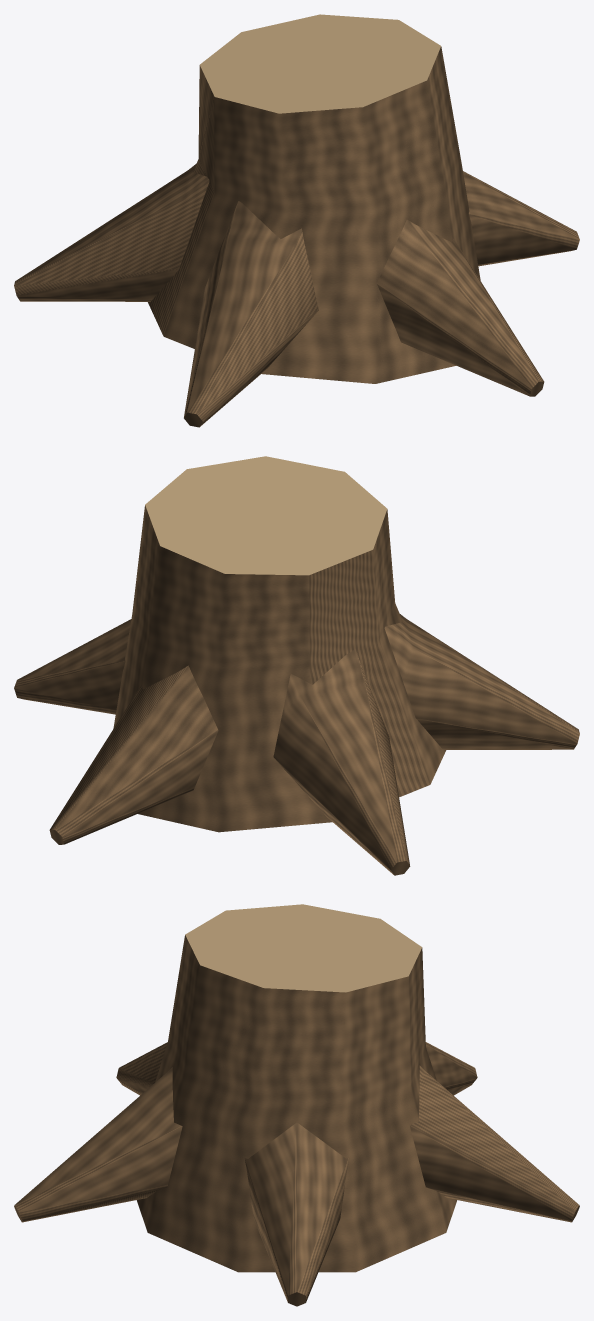
3 renders of one model, top to bottom at view 1: azimuth 30°, elevation 25°; view 2: azimuth 150°, elevation 25°; view 3: azimuth 270°, elevation 25°, orthographic. The views are drawn at different scales.
Visible parts, largest first — view 1: Harvest stump; view 2: Harvest stump; view 3: Harvest stump.
Part boxes in pixels (x1,y1,x2,y2): Harvest stump: [14, 14, 579, 427]; Harvest stump: [14, 456, 579, 875]; Harvest stump: [14, 904, 579, 1306].
Bounding box in the file's own units: 1.57 × 0.8608 × 1.64.
2 materials, 1 textured.
